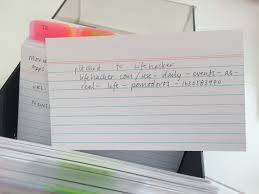Note: (45, 37, 249, 152)
